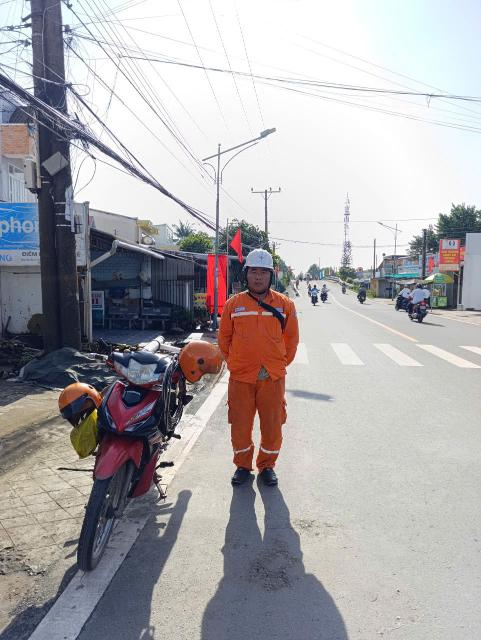helmet: (236, 238, 290, 280)
shoes: (249, 454, 289, 489), (216, 469, 257, 491)
